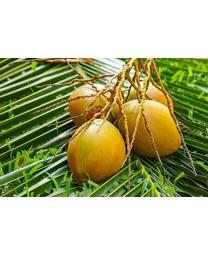coconut: (117, 98, 186, 160), (65, 116, 126, 177), (64, 85, 122, 122), (131, 80, 175, 120)
